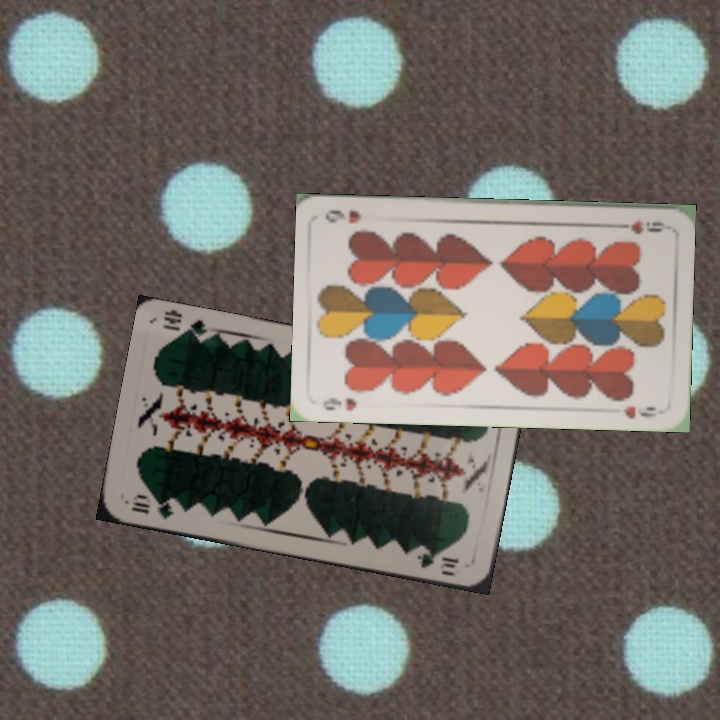G10: (128, 491, 176, 522)
H9: (610, 215, 669, 237), (319, 393, 359, 414)
